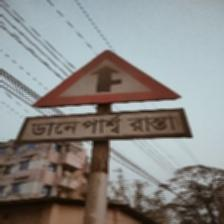Side-road-right: (27, 49, 189, 143)
